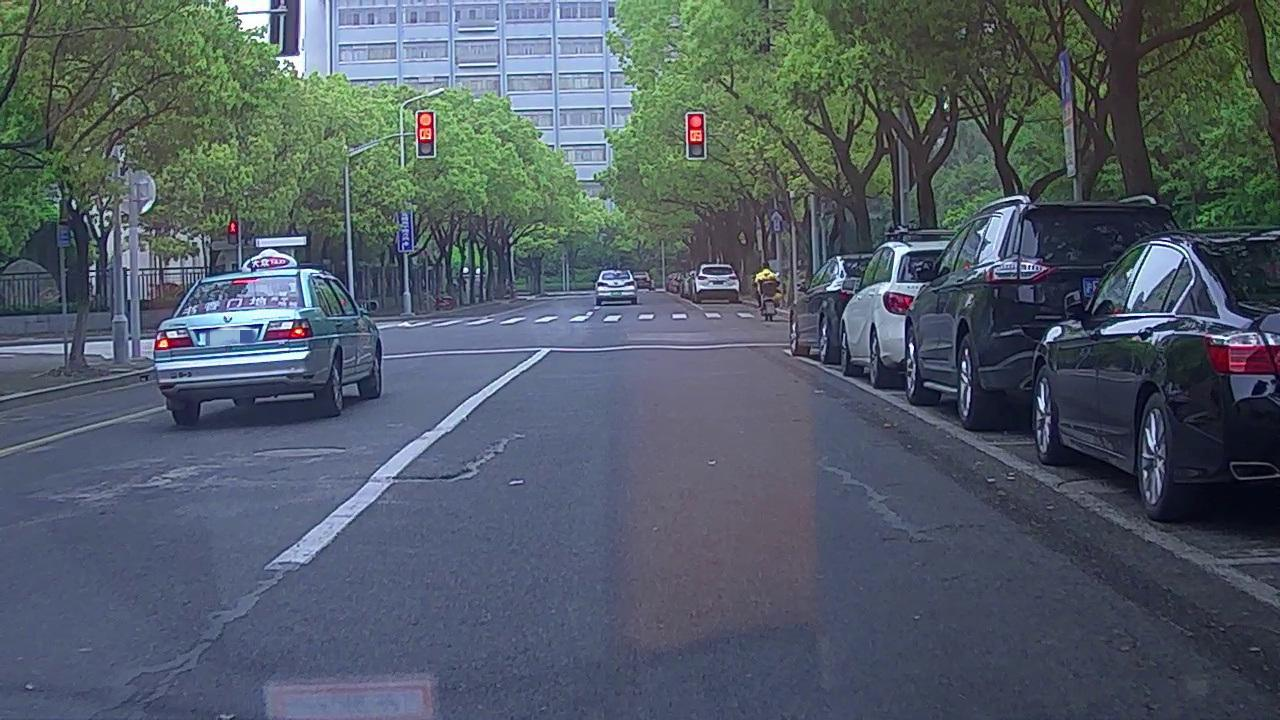traffic_light: (416, 110, 435, 157), (687, 112, 706, 159)
